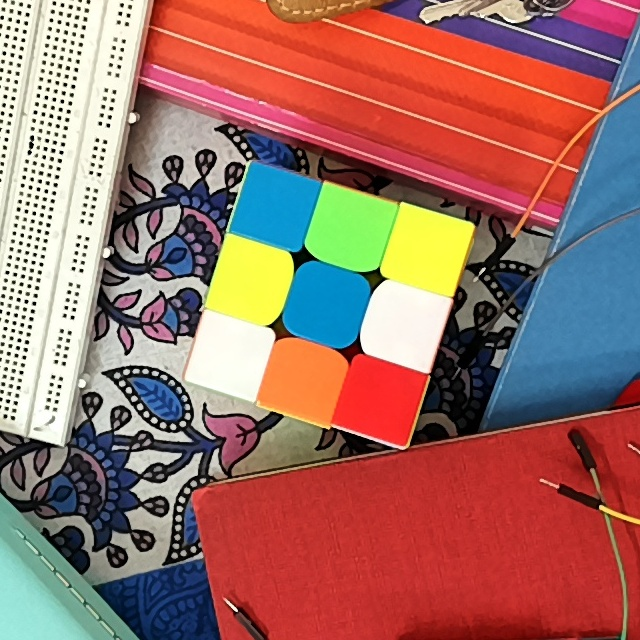tile: (297, 277, 356, 334), (320, 202, 380, 257), (397, 222, 456, 277), (274, 354, 331, 410), (378, 297, 433, 354), (224, 252, 279, 309), (247, 181, 305, 235), (350, 372, 409, 425), (202, 330, 257, 383)
